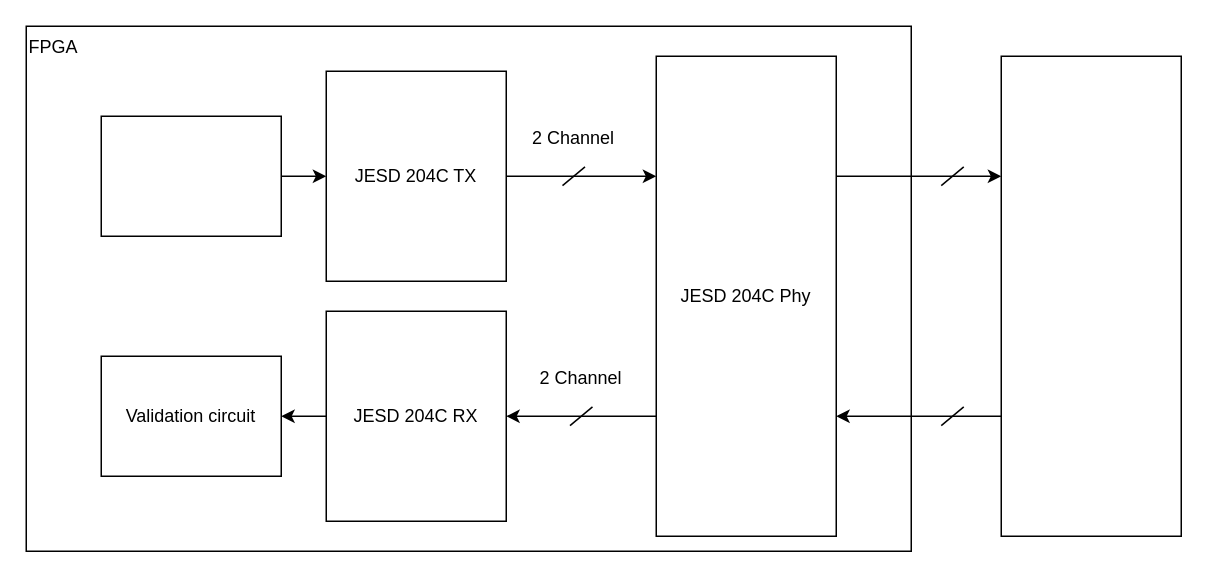
The diagram is 1208 pixels wide and 578 high, and some of its shapes have lost their labels. Here are the shapes that lost their labels. From the top down, the centre of each, then its label:
At (x=190, y=175): "64 16-bit PRBS pattern gen".
At (x=1090, y=295): "Validation board".
